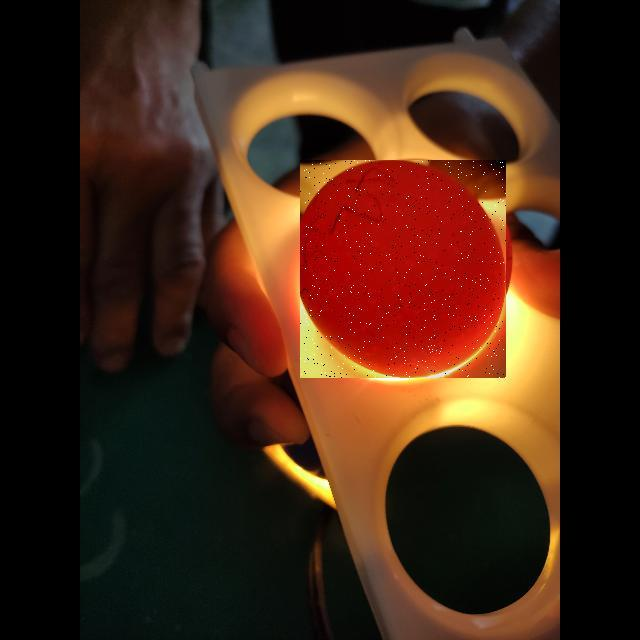Infertile: (300, 160, 506, 378)
